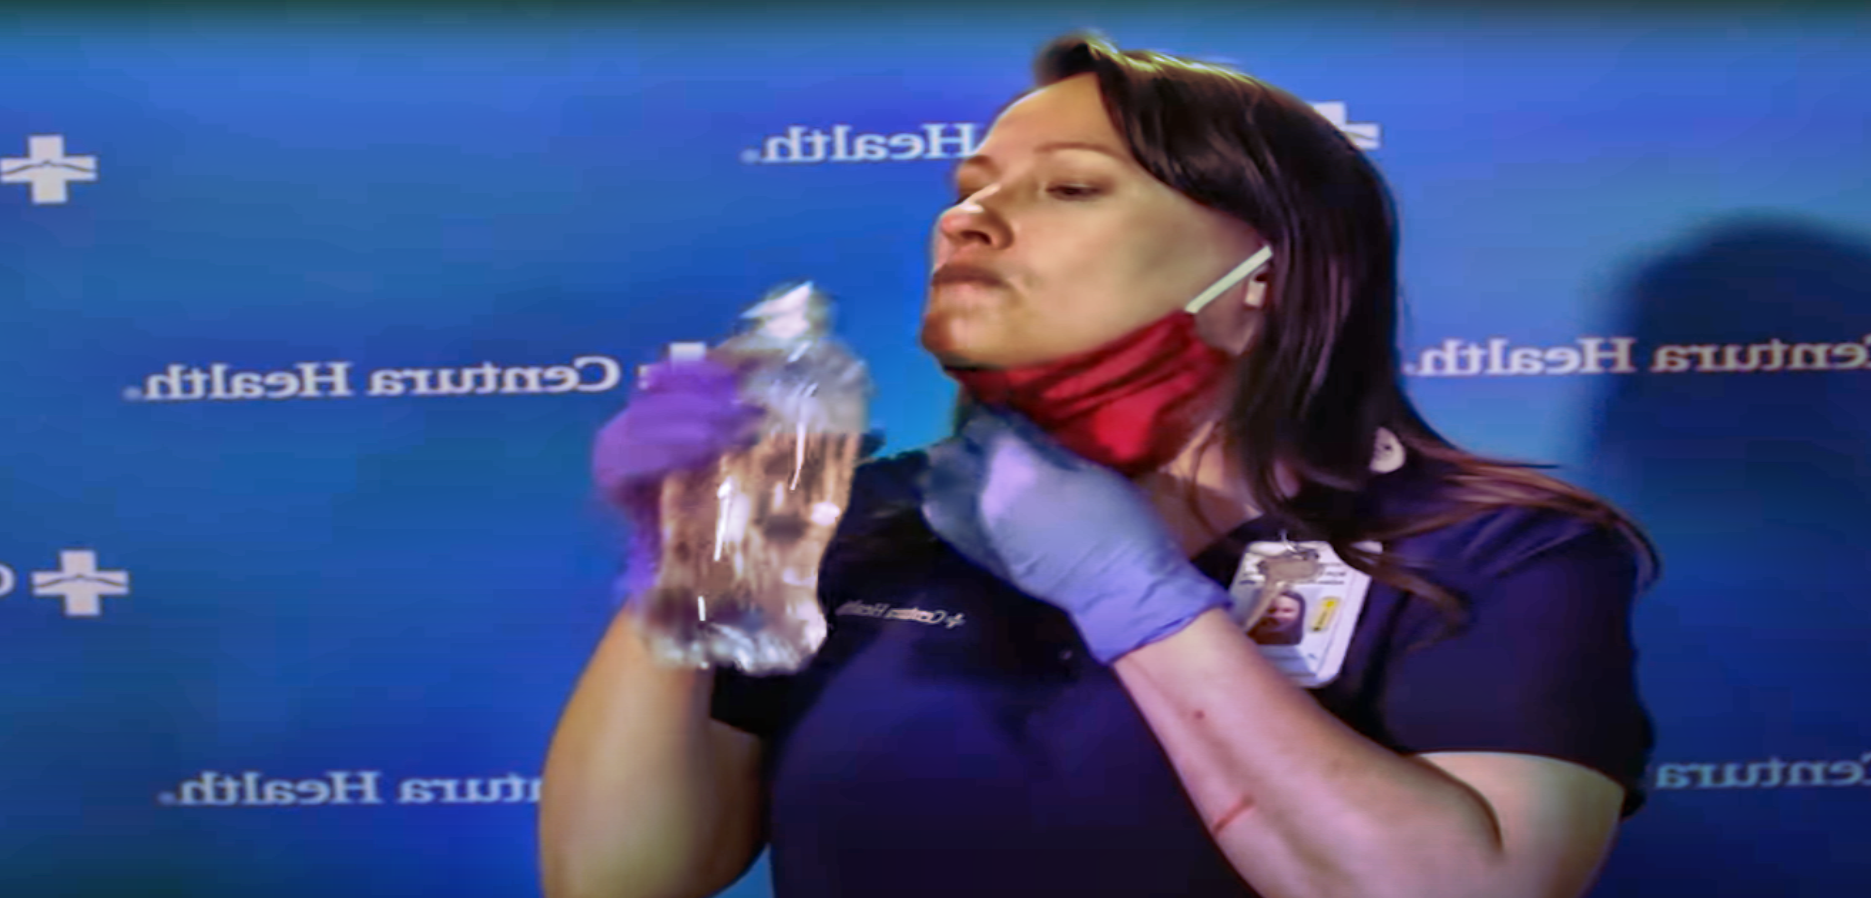mask_weared_incorrect: (919, 40, 1393, 477)
